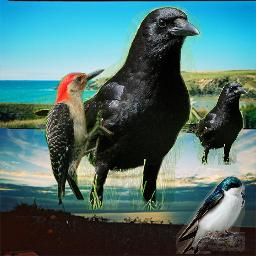Crow: (34, 5, 202, 210), (179, 81, 248, 165)
Swallow: (176, 176, 245, 254)
Woodpecker: (45, 69, 114, 200)
